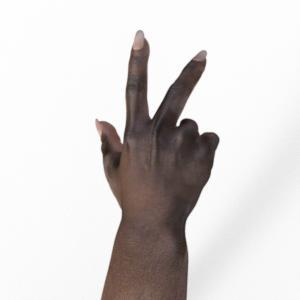scissors: (96, 30, 219, 300)
